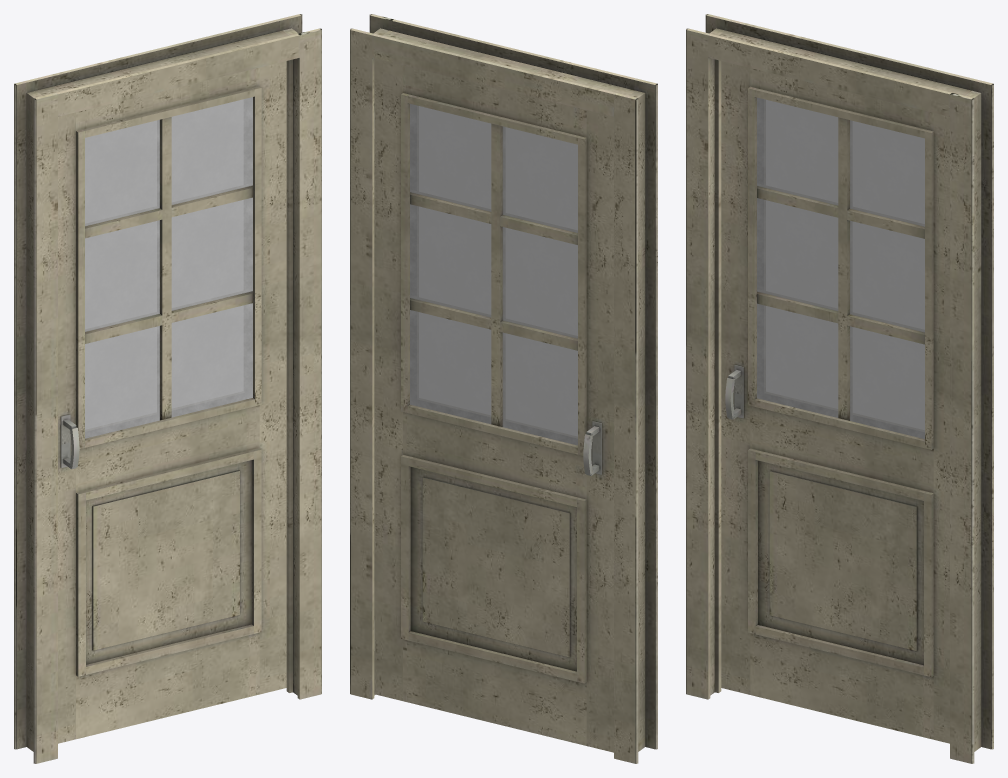
The model's file is door_panel_6lite_web.glb.
3 renders of one model, left to right at view 1: azimuth 30°, elevation 25°; view 2: azimuth 150°, elevation 25°; view 3: azimuth 330°, elevation 25°, orthographic.
Visible parts, largest first — view 1: Door_Mesh, DoorPanel6Lite_Frame, Glass_Door; view 2: Door_Mesh, DoorPanel6Lite_Frame, Glass_Door; view 3: Door_Mesh, DoorPanel6Lite_Frame, Glass_Door.
Part boxes in pixels (box(x1,y1,x2,y2)): Door_Mesh: box(58, 61, 286, 743); DoorPanel6Lite_Frame: box(14, 14, 321, 763); Glass_Door: box(85, 97, 252, 438); Door_Mesh: box(374, 58, 613, 752); DoorPanel6Lite_Frame: box(350, 14, 657, 763); Glass_Door: box(410, 104, 577, 445); Door_Mesh: box(721, 61, 949, 743); DoorPanel6Lite_Frame: box(686, 14, 993, 763); Glass_Door: box(757, 97, 924, 439).
Size of the model in its own units: 0.9419 by 2.07 by 0.1729.
Materials: 2 (2 with a texture image).
